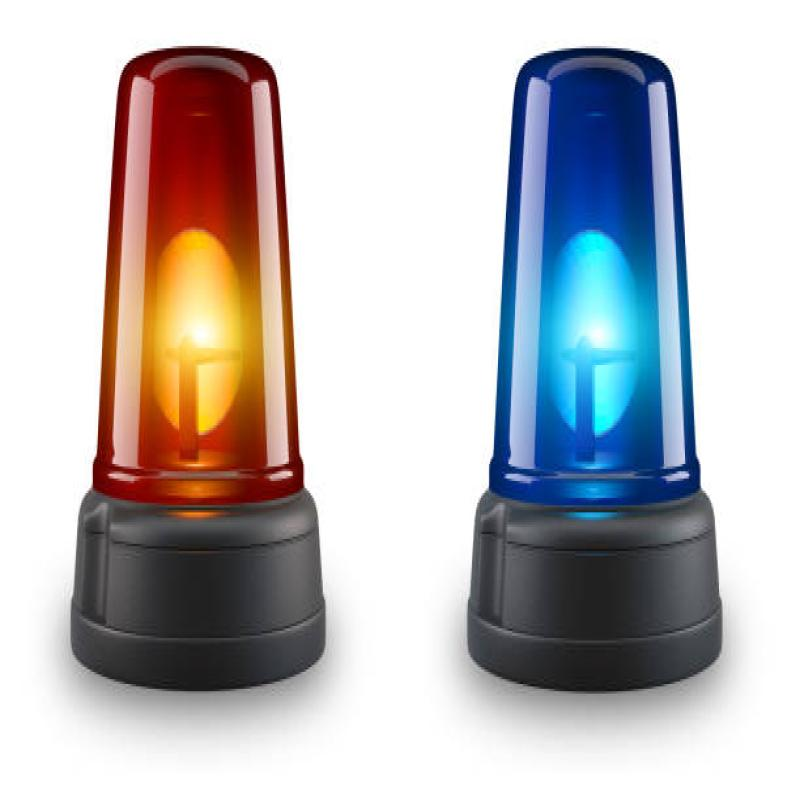AmbulanceSiren: (478, 35, 746, 715), (60, 39, 334, 685)
